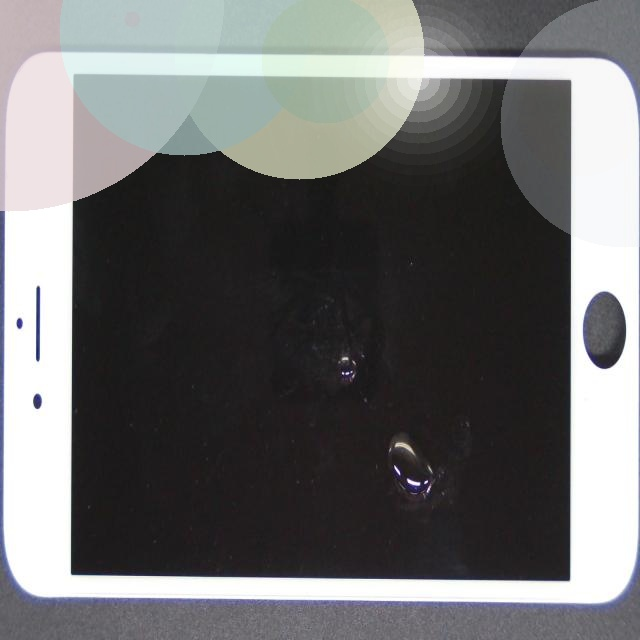oil: (226, 242, 634, 640), (174, 162, 506, 533)
